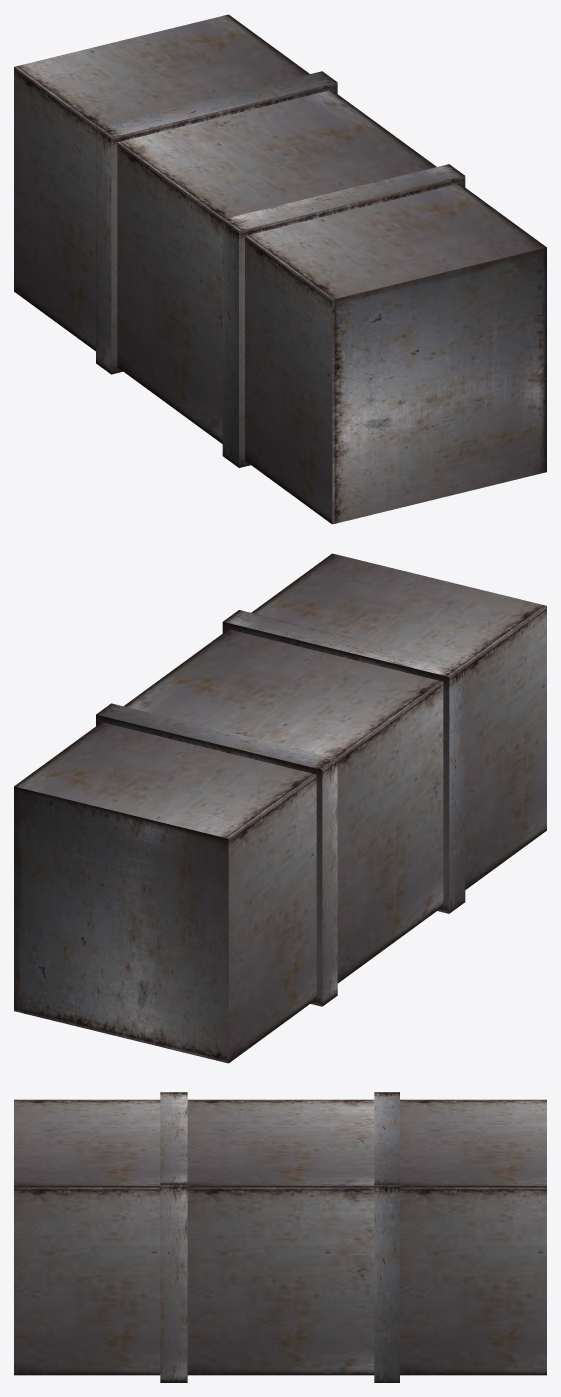
Rendered from ventilation1.fbx.
3 renders of one model, top to bottom at view 1: azimuth 30°, elevation 25°; view 2: azimuth 150°, elevation 25°; view 3: azimuth 270°, elevation 25°, orthographic. The views are drawn at different scales.
Parts seen in each view (by area): view 1: Ventilation1; view 2: Ventilation1; view 3: Ventilation1.
Part boxes in pixels (x1,y1,x2,y2): Ventilation1: (14,14,546,524); Ventilation1: (14,553,546,1063); Ventilation1: (14,1092,546,1382).
Size of the model in its own units: 90.49 by 90.49 by 220.
Materials: 1 (1 with a texture image).
